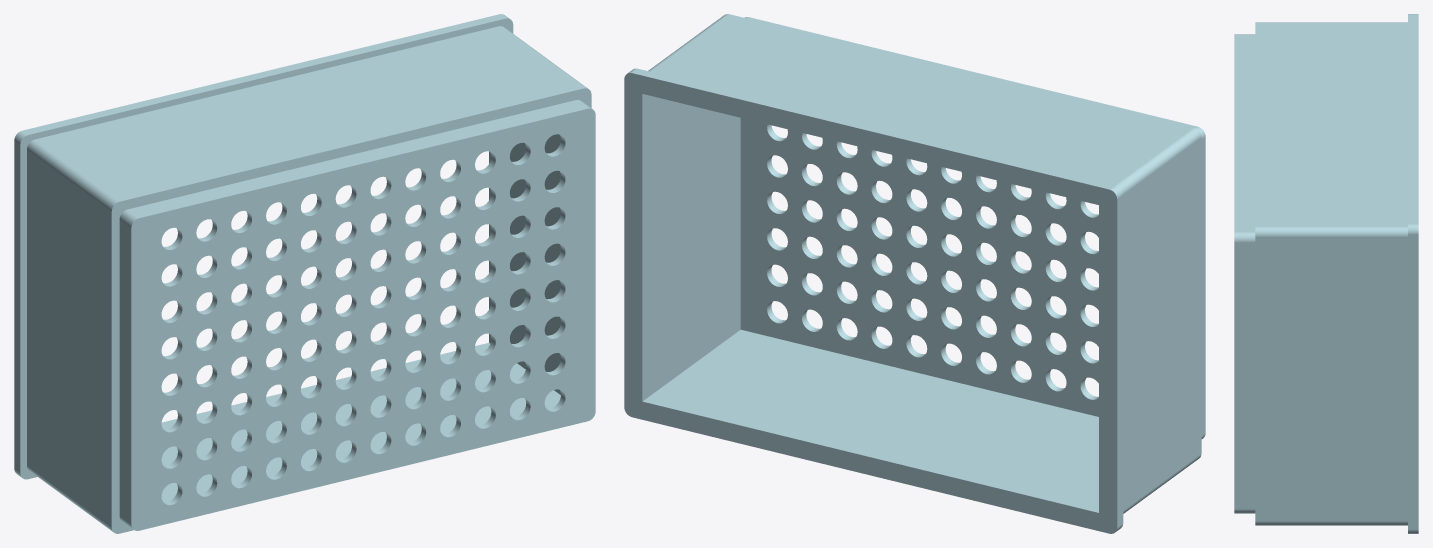
Rendered from rack_axygen_180ul.glb.
3 views of the same model, side by side, from view 1: azimuth 30°, elevation 25°; view 2: azimuth 150°, elevation 25°; view 3: azimuth 270°, elevation 25° (orthographic). The views are drawn at different scales.
Visible parts, largest first — view 1: plate_axgen_180ul; view 2: plate_axgen_180ul; view 3: plate_axgen_180ul.
Boxes of the visible parts, box(x1,y1,x2,y2) form: plate_axgen_180ul: box(14, 14, 595, 533); plate_axgen_180ul: box(624, 14, 1205, 533); plate_axgen_180ul: box(1234, 14, 1418, 533).
Bounding box in the file's own units: 127 × 85 × 46.
